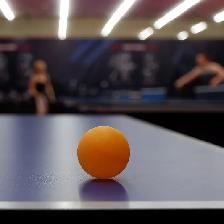YellowBall: (76, 125, 130, 179)
